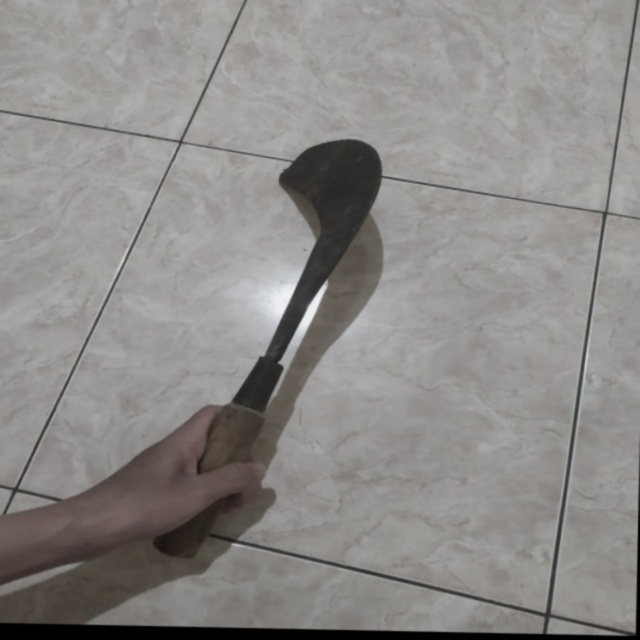Sharp-Object: (112, 127, 399, 590)
